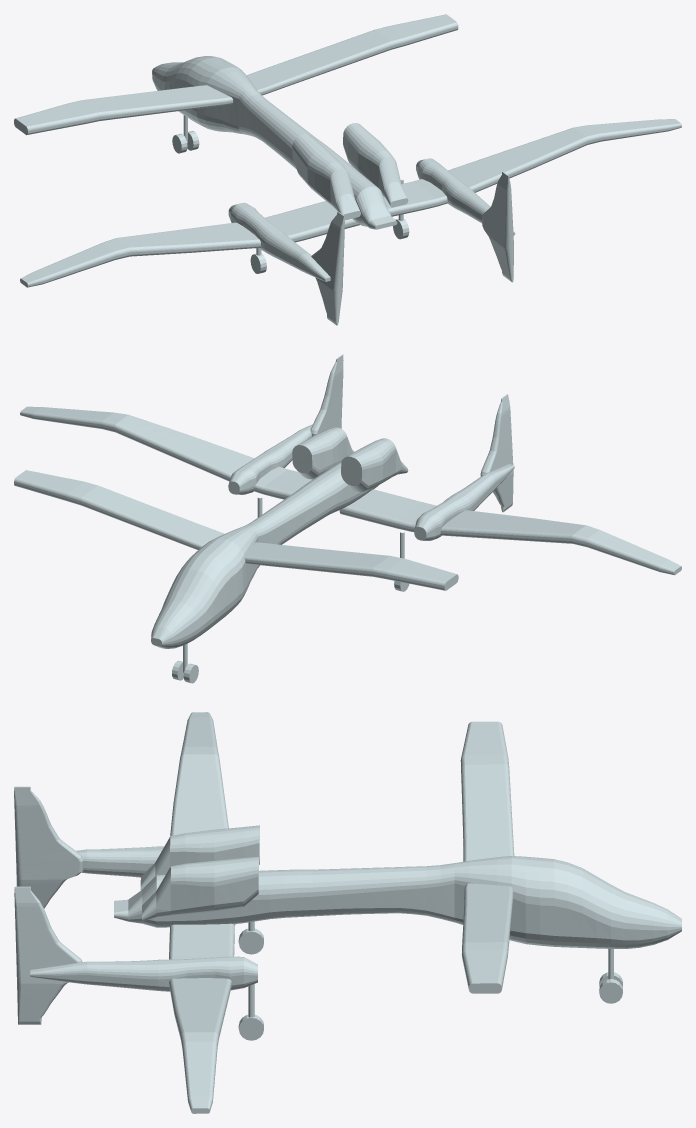
Rendered from PRTS.glb.
3 views of the same model, one above another, from view 1: azimuth 30°, elevation 25°; view 2: azimuth 150°, elevation 25°; view 3: azimuth 270°, elevation 25° (orthographic). The views are drawn at different scales.
Visible parts, largest first — view 1: Aircraft visual hull, Landing gear; view 2: Aircraft visual hull, Landing gear; view 3: Aircraft visual hull, Landing gear.
Boxes of the visible parts, bbox=[...] form: Aircraft visual hull: bbox=[14, 14, 681, 325]; Landing gear: bbox=[172, 115, 409, 273]; Aircraft visual hull: bbox=[14, 354, 681, 648]; Landing gear: bbox=[172, 498, 409, 683]; Aircraft visual hull: bbox=[14, 712, 681, 1113]; Landing gear: bbox=[238, 921, 622, 1040].
Size of the model in its own units: 27.78 by 5.3 by 19.8.
